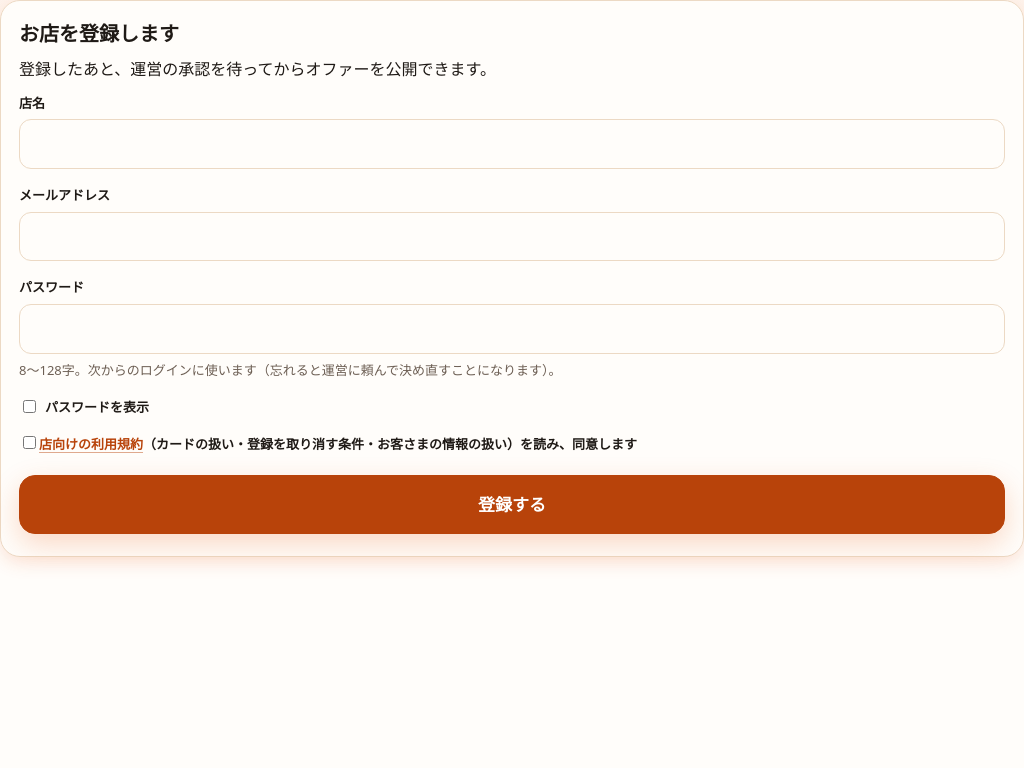
Test: 店の登録のパスワードの欄（店-20） › 店名・メールアドレスの断りでは、パスワードを消さない
Step 1. Type "検査の店" into the field with test id "field-name" → (512, 144), box [19, 119, 1005, 169]
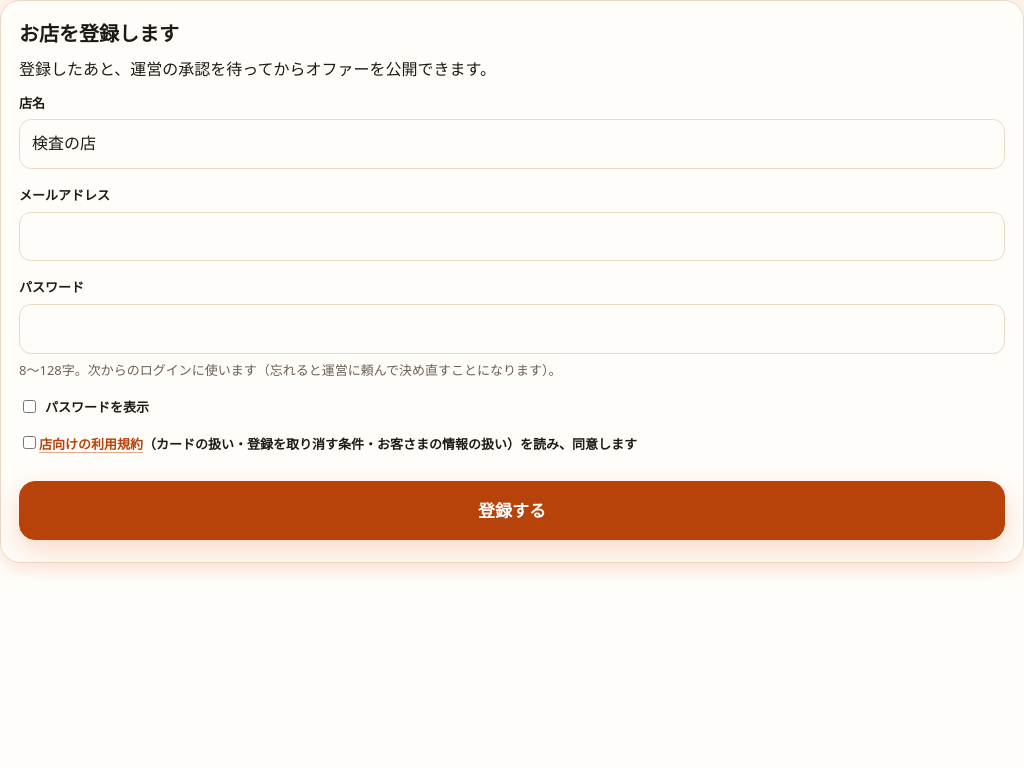
Step 2. Type "dup@example.com" into the field with test id "field-email" → (512, 237), box [19, 212, 1005, 261]
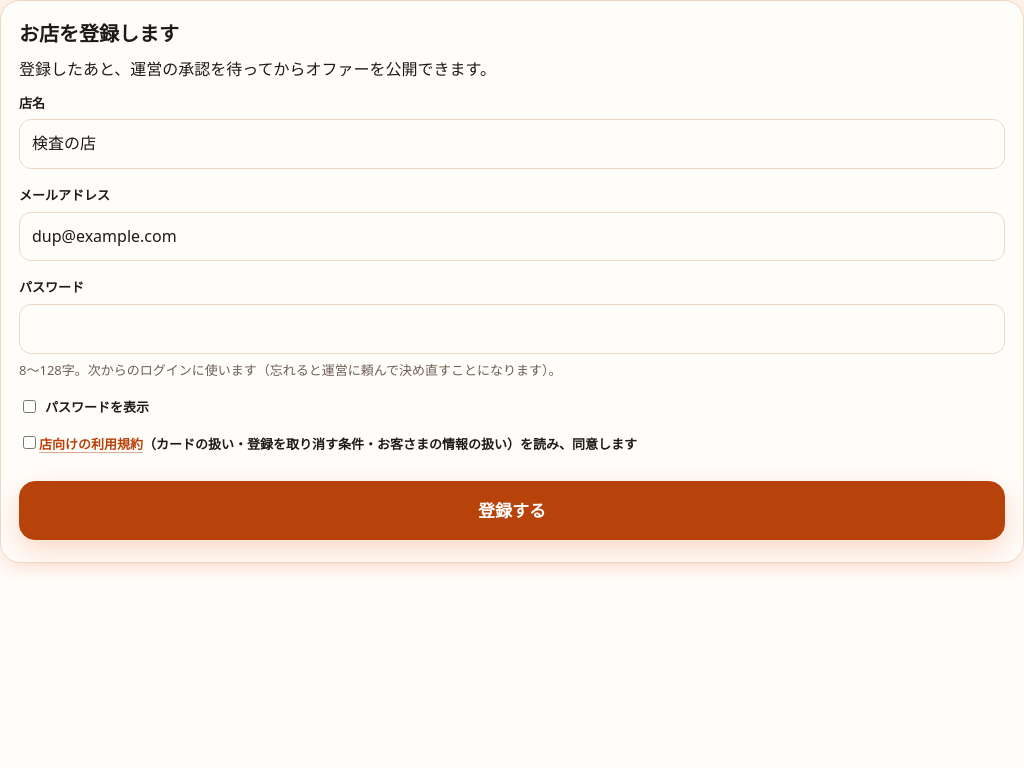
Step 3. Type "store-pass-1234" into the password field with test id "field-password" → (512, 329), box [19, 304, 1005, 354]
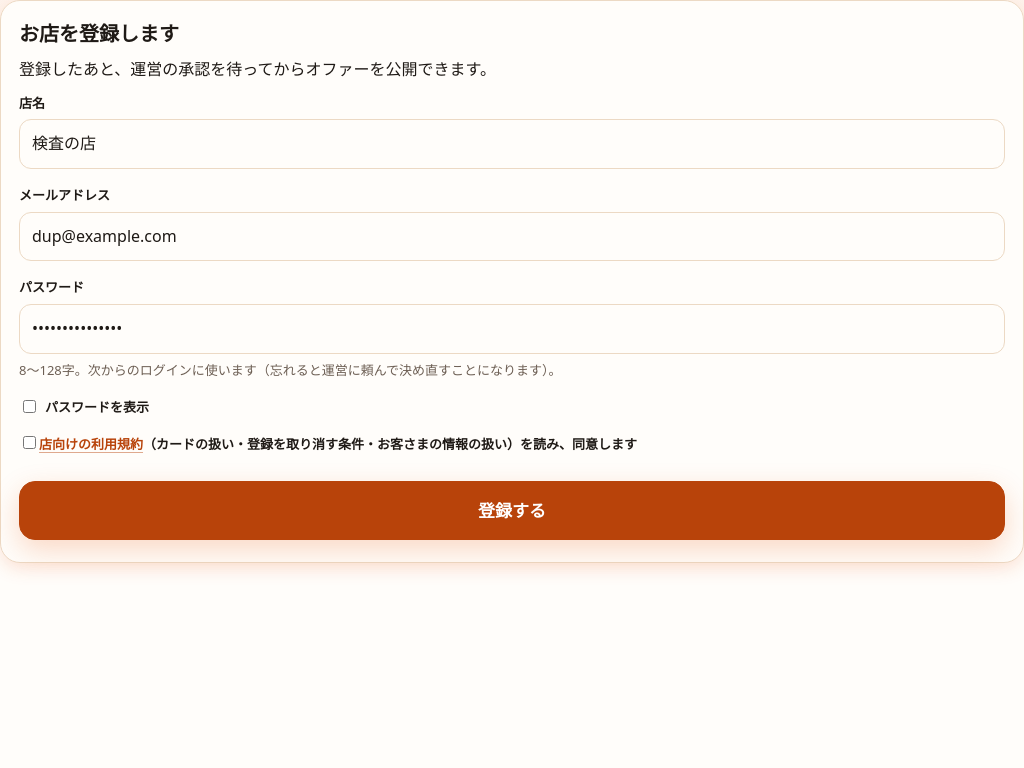
Step 4. Click the checkbox with test id "field-agreeTerms" → (30, 443), box [23, 436, 36, 449]
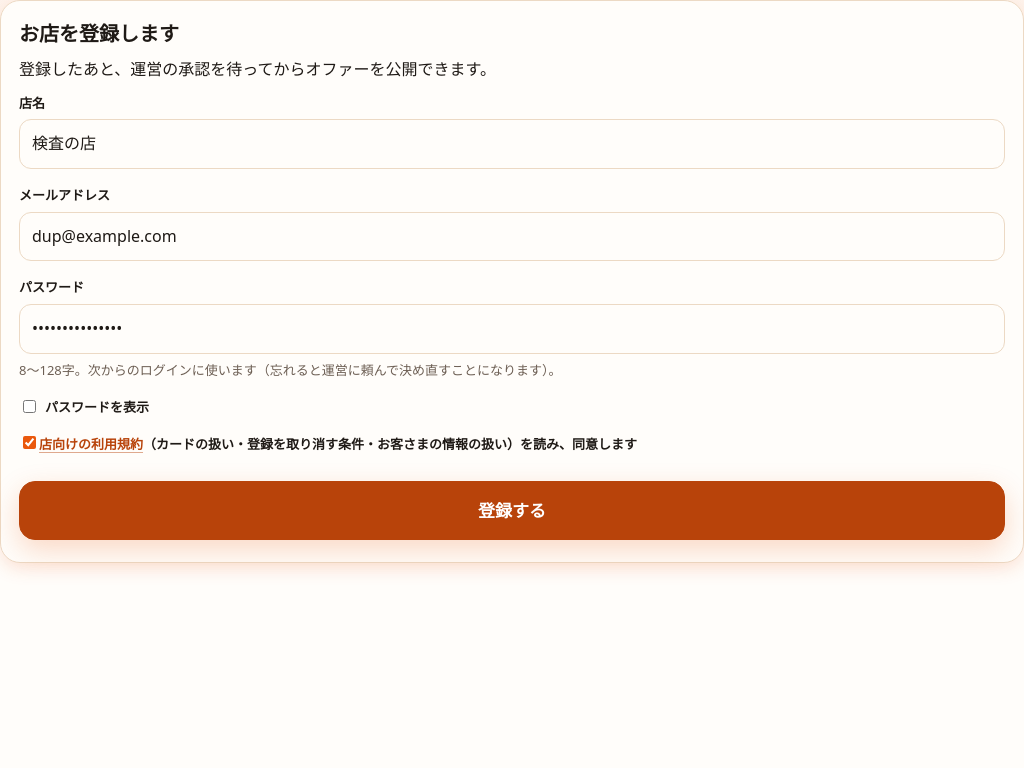
Step 5. Click the button with test id "btn-register" → (512, 511), box [19, 481, 1005, 540]
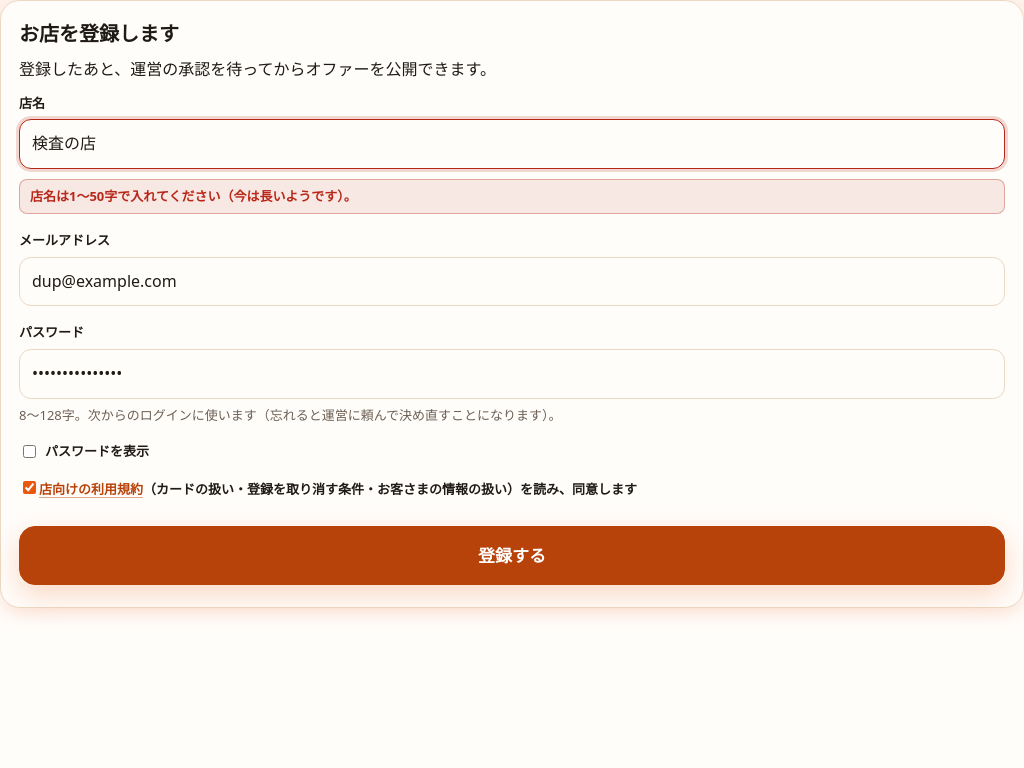
Now the message "店名は1〜50字で入れてください（今は長いようです）。" is shown, box [19, 179, 1005, 214]
